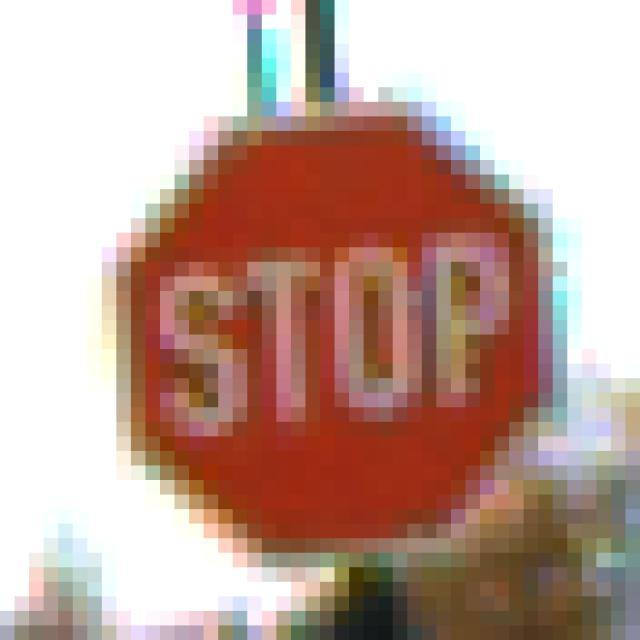STOP: (88, 74, 554, 568)
